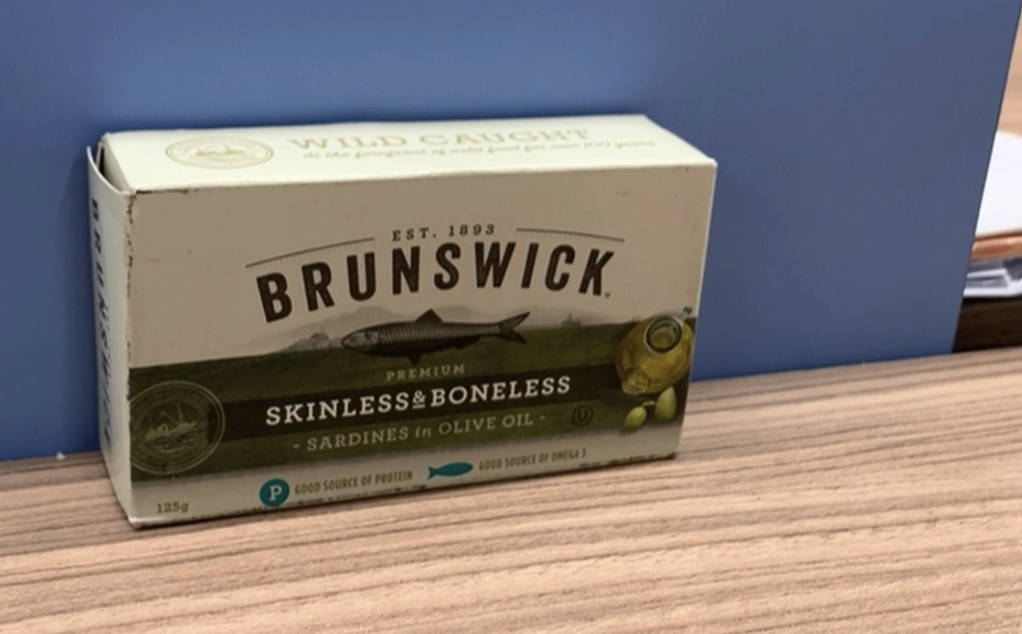sardines_150g: (151, 213, 690, 476)
